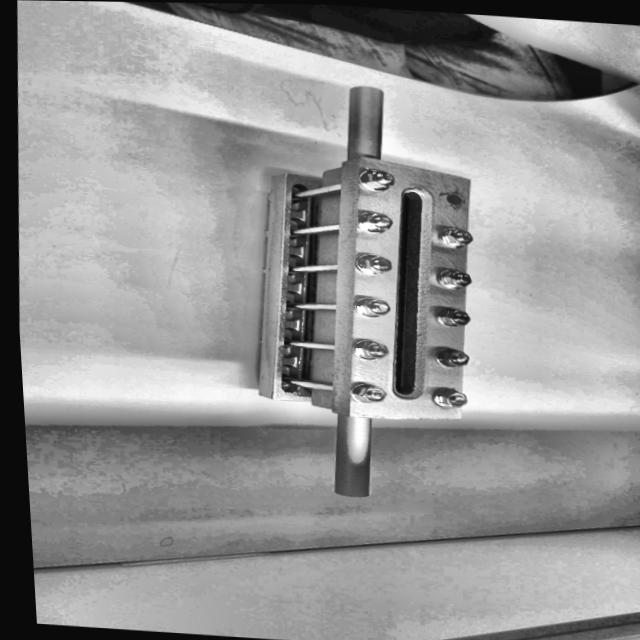ShuiWeiQi_11: (209, 79, 542, 510)
